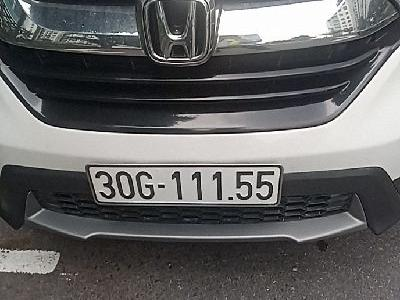number: (86, 163, 281, 208)
